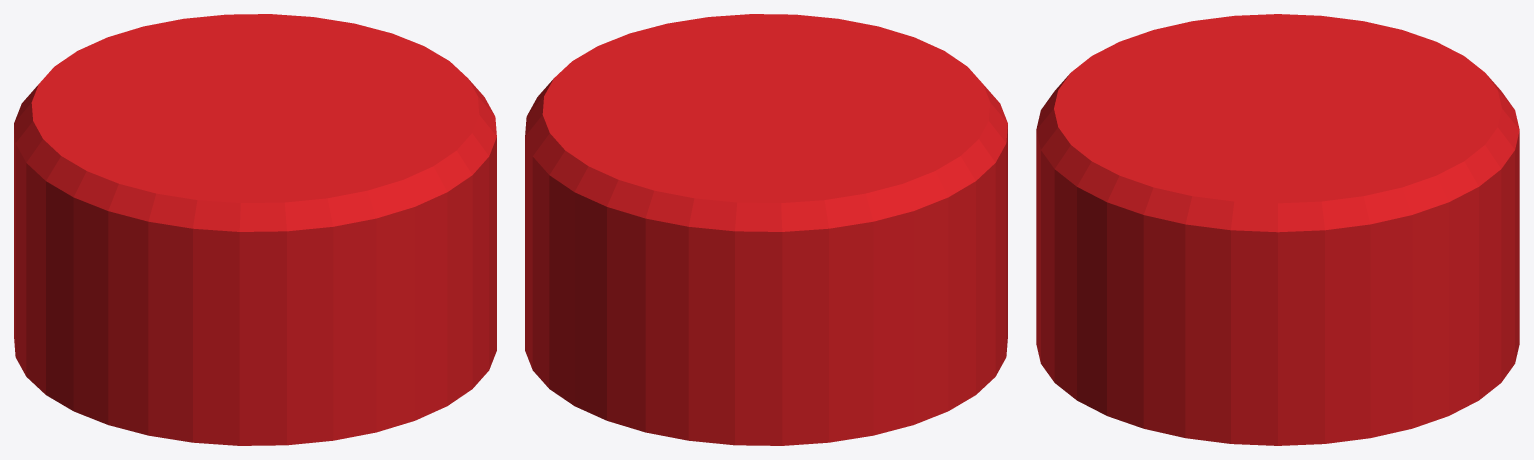
Rendered from cap.glb.
3 renders of one model, left to right at view 1: azimuth 30°, elevation 25°; view 2: azimuth 150°, elevation 25°; view 3: azimuth 270°, elevation 25°, orthographic.
Parts seen in each view (by area): view 1: Cap; view 2: Cap; view 3: Cap.
Boxes of the visible parts, left/top/right/bottom form: Cap: left=14, top=14, right=496, bottom=445; Cap: left=525, top=14, right=1007, bottom=445; Cap: left=1036, top=14, right=1519, bottom=445.
Size of the model in its own units: 0.041 by 0.022 by 0.041.
